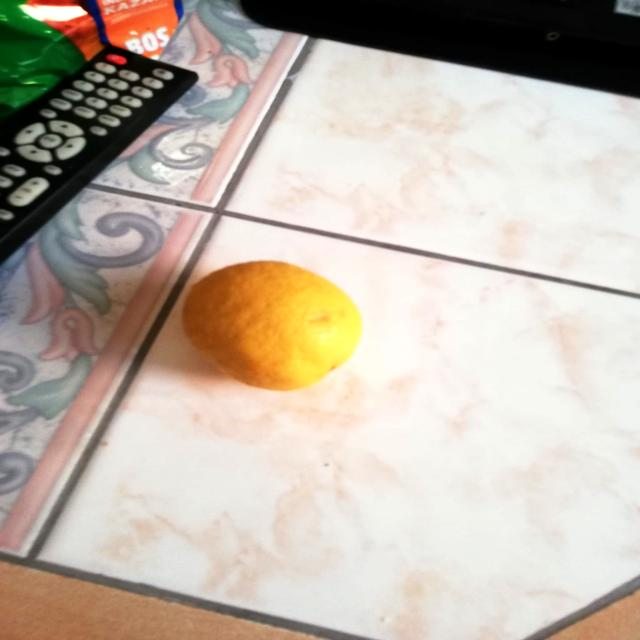lemon: (175, 257, 374, 392)
